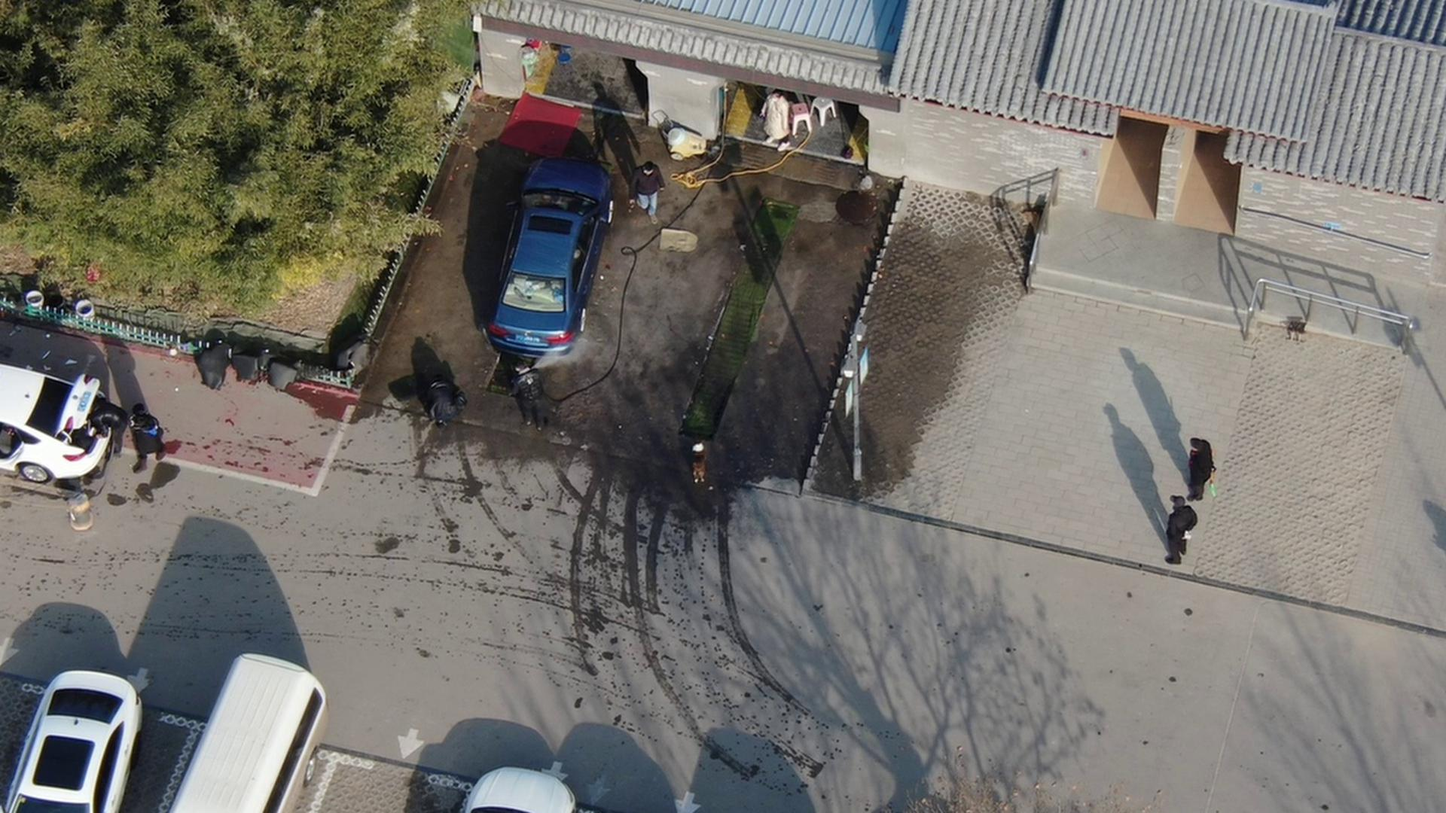human: (502, 349, 548, 428), (1182, 429, 1227, 509), (623, 154, 670, 221), (422, 367, 472, 426), (1161, 498, 1200, 569), (135, 399, 172, 471), (755, 81, 795, 145), (95, 392, 136, 453)
